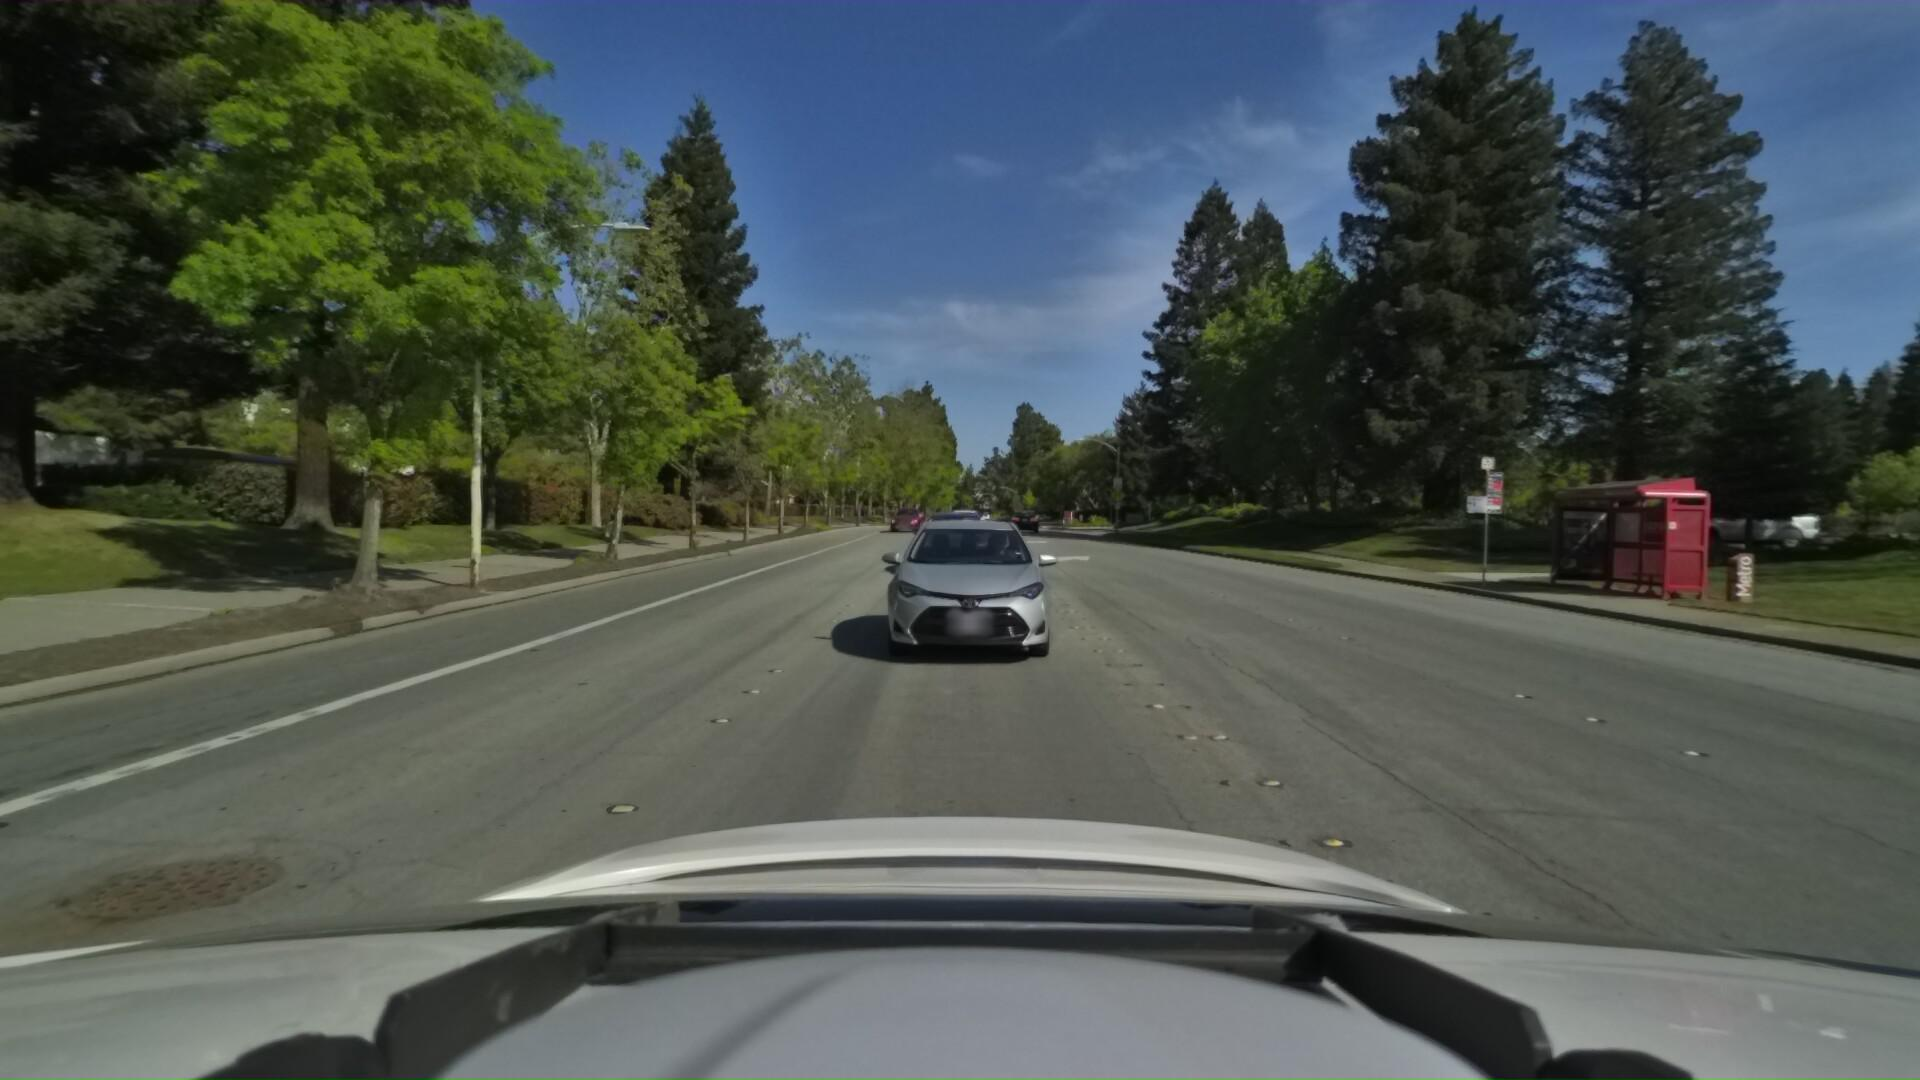car: (872, 502, 1060, 670), (1636, 489, 1847, 549), (901, 506, 985, 578), (953, 502, 989, 535), (884, 502, 920, 531), (1007, 506, 1040, 531)
